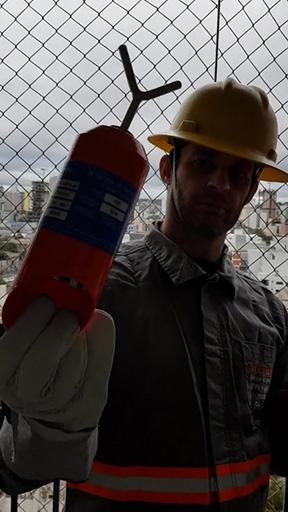Detector_Tensao_Contato: (1, 44, 181, 341)
